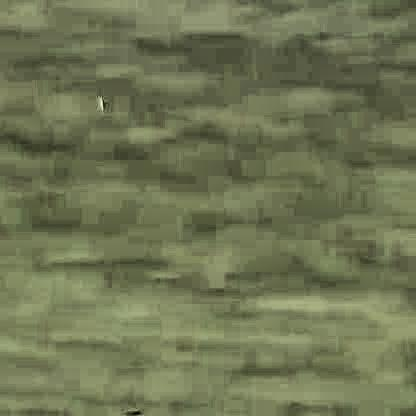golfball: (93, 87, 104, 109)
